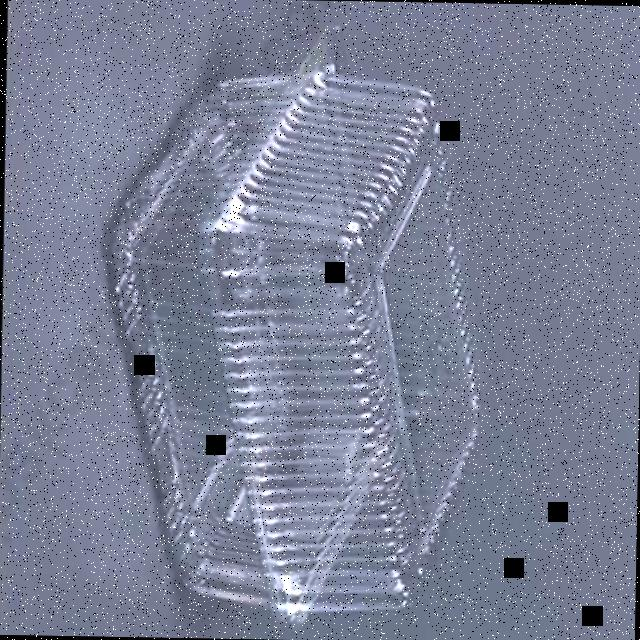plastic_box: (99, 20, 485, 640)
